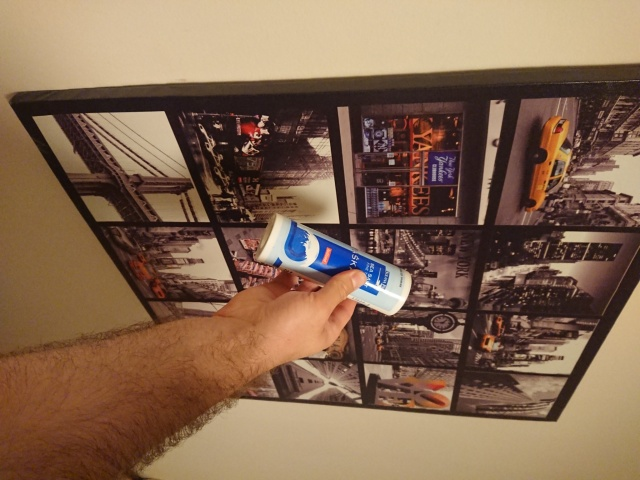Solana Pag Fine Sea Salt 250g: (252, 210, 414, 319)
